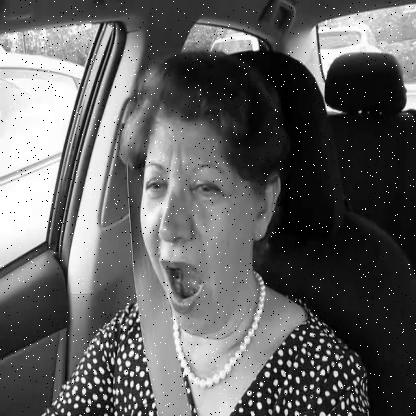seatbelt: (98, 23, 294, 416)
